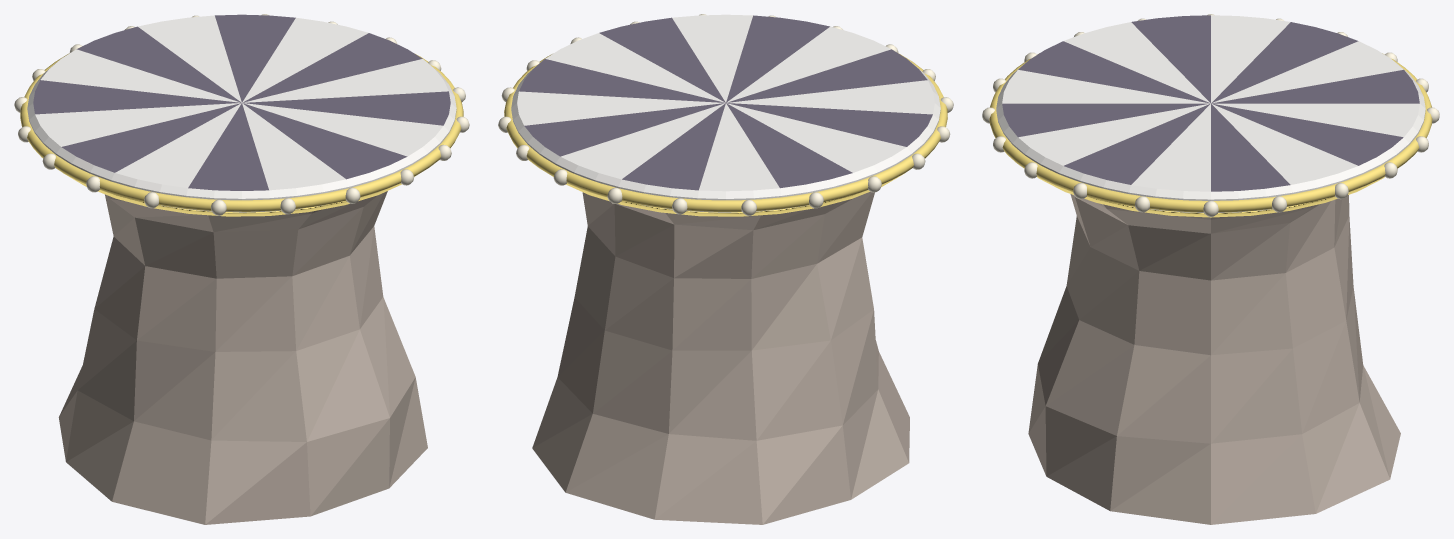
The model's file is RefereeStand.glb.
3 renders of one model, left to right at view 1: azimuth 30°, elevation 25°; view 2: azimuth 150°, elevation 25°; view 3: azimuth 270°, elevation 25°, orthographic.
Parts seen in each view (by area): view 1: Rock, Stage, StageAlt, Trim, Bulbs; view 2: Rock, Stage, StageAlt, Trim, Bulbs; view 3: Rock, Stage, StageAlt, Trim, Bulbs.
Boxes of the visible parts, x1,y1,x2,y2 form: Rock: (58,191,427,524); Stage: (27,15,456,212); StageAlt: (33,14,450,190); Trim: (20,53,463,216); Bulbs: (14,14,469,215); Rock: (532,191,909,524); Stage: (511,14,940,212); StageAlt: (519,15,932,190); Trim: (504,53,947,216); Bulbs: (498,14,953,215); Rock: (1028,194,1400,524); Stage: (996,15,1425,212); StageAlt: (1002,15,1419,191); Trim: (989,53,1432,217); Bulbs: (982,14,1439,216).
Size of the model in its own units: 23.48 by 19.3 by 23.44.
